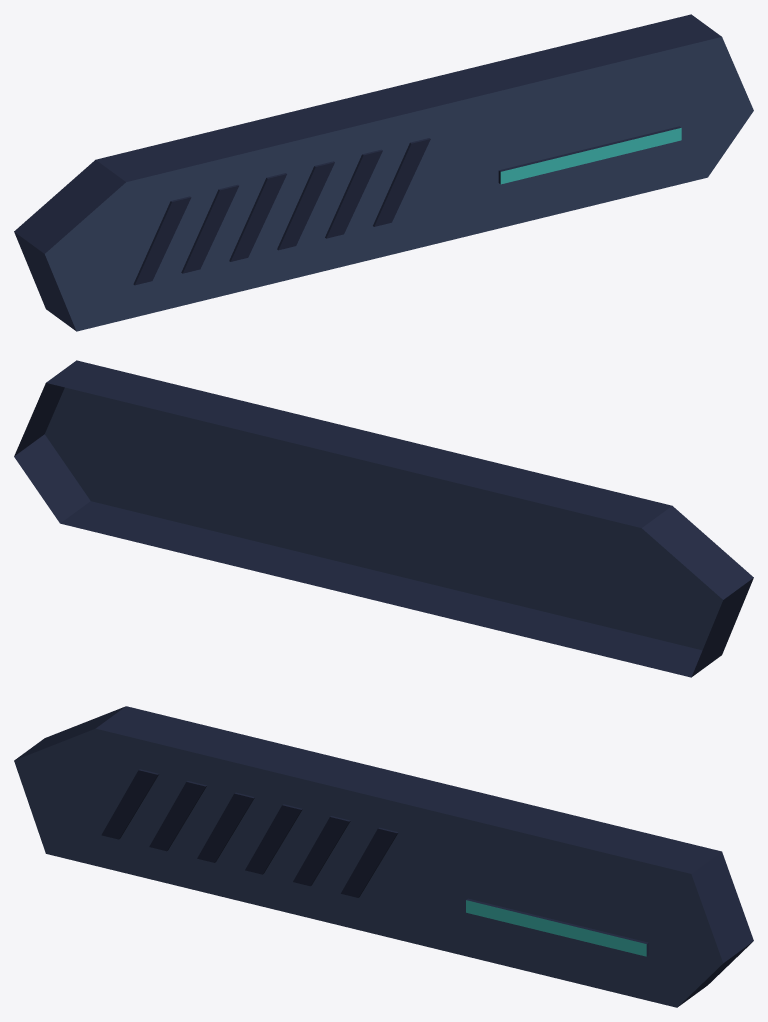
Rendered from CoolerSill.gltf.
3 views of the same model, one above another, from view 1: azimuth 30°, elevation 25°; view 2: azimuth 150°, elevation 25°; view 3: azimuth 330°, elevation 25° (orthographic).
Parts seen in each view (by area): view 1: CoolerSill; view 2: CoolerSill; view 3: CoolerSill.
Part boxes in pixels (x1,y1,x2,y2): CoolerSill: (14,14,753,331); CoolerSill: (14,360,753,677); CoolerSill: (14,706,753,1007).
Bounding box in the file's own units: 2 × 0.37 × 0.16.
